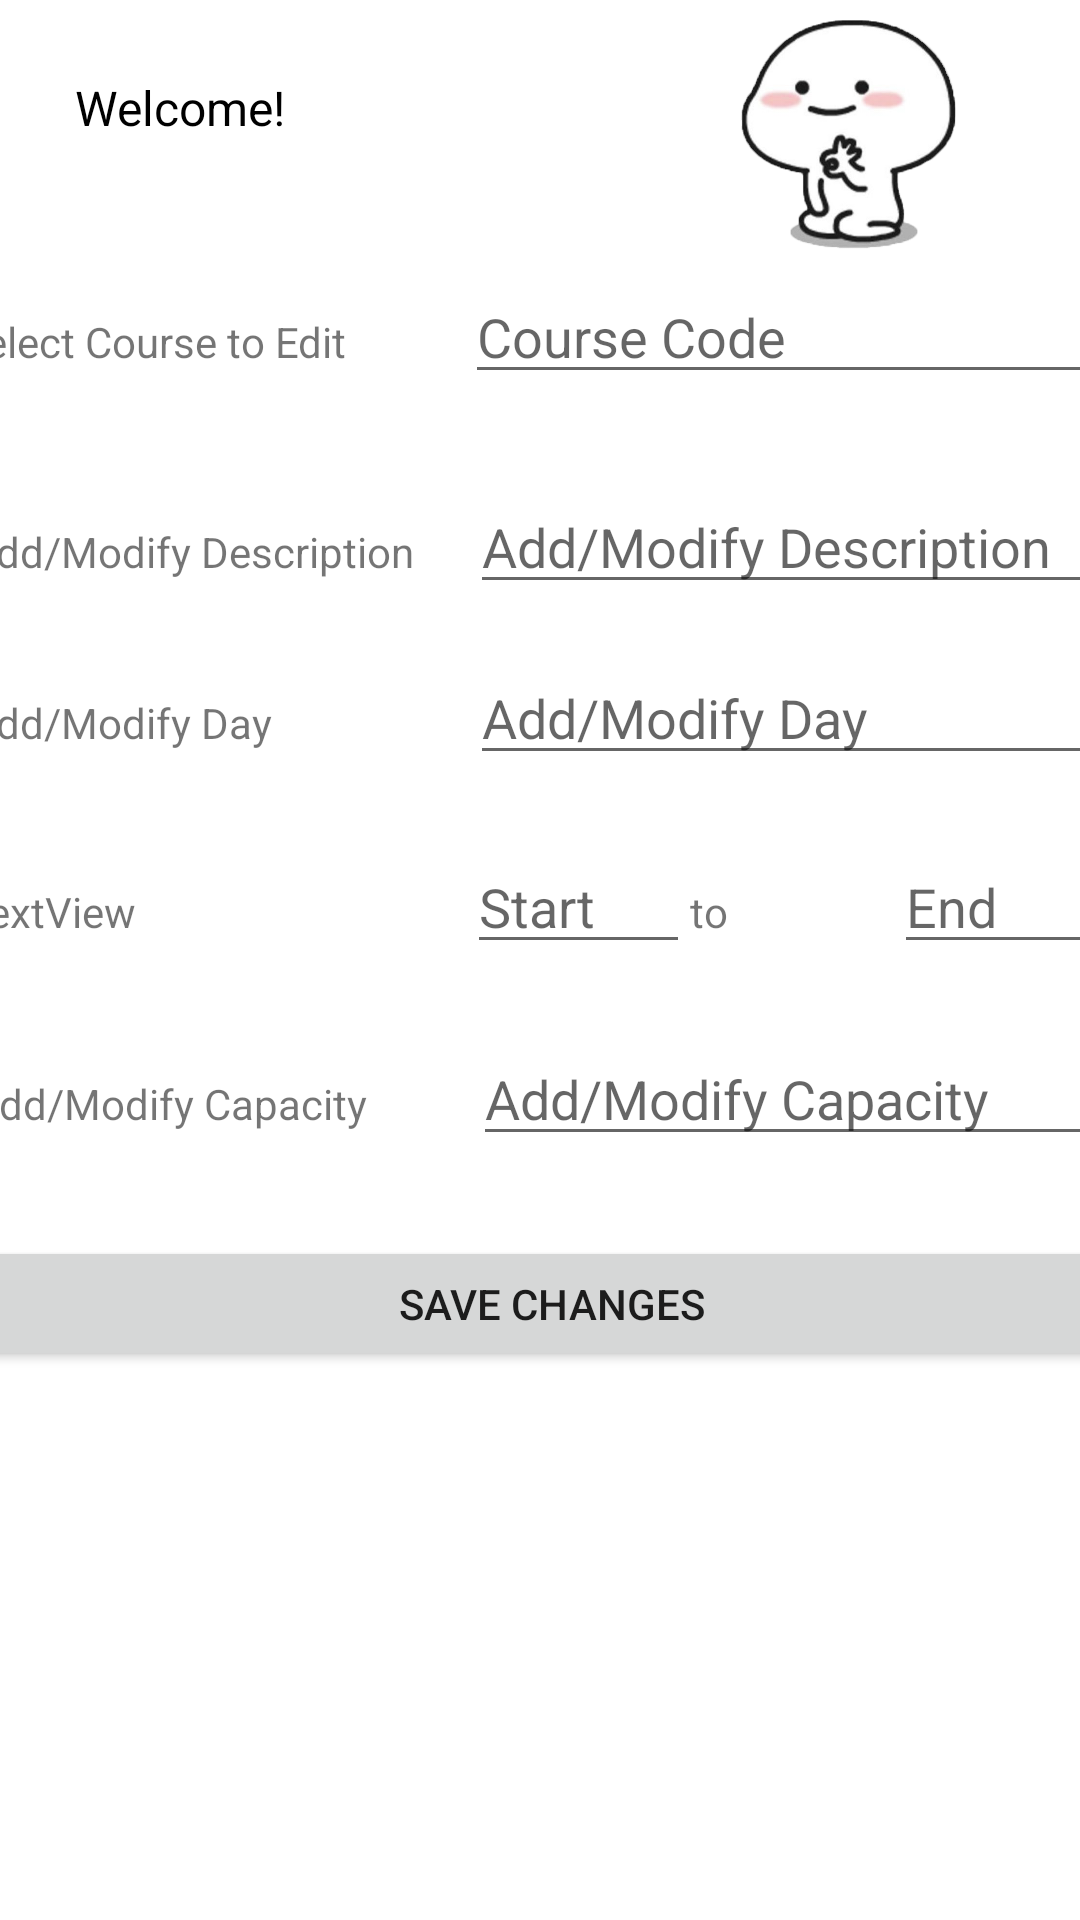

Named icons in this screenshot (1080×1920) and their centers, (x=x, y=y):
okay: (x=848, y=134)
